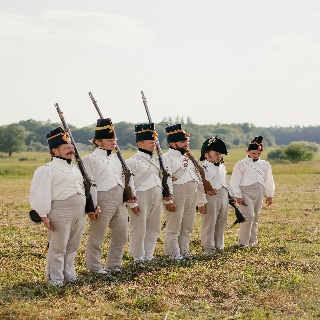rifle: (53, 101, 102, 216), (88, 91, 138, 202), (140, 88, 176, 201), (165, 119, 216, 195), (225, 187, 247, 224)
